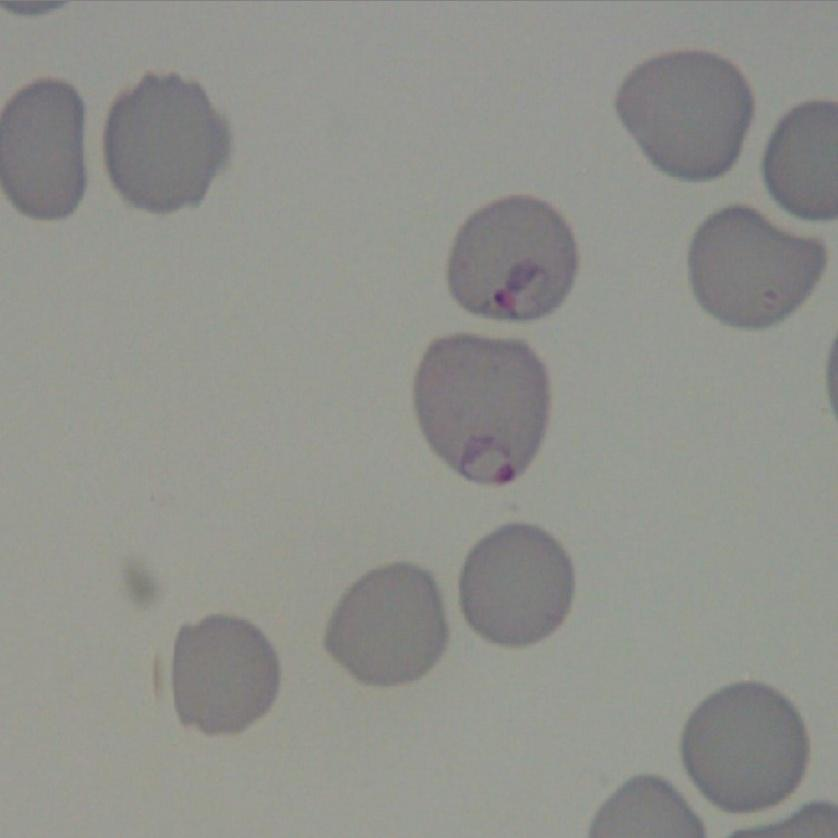Infected: (292, 349, 423, 512), (266, 517, 389, 645)
Uninfected: (86, 659, 226, 787), (614, 627, 735, 767), (16, 507, 146, 637), (32, 21, 155, 157), (390, 149, 510, 276), (268, 191, 379, 318), (554, 99, 663, 226), (754, 617, 835, 757), (0, 619, 70, 739)
